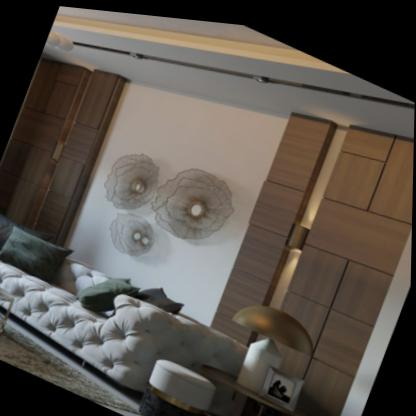Wall Panel: (0, 60, 414, 416)
